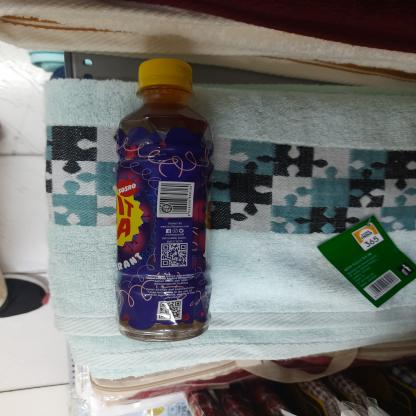plastic: (112, 56, 211, 344)
